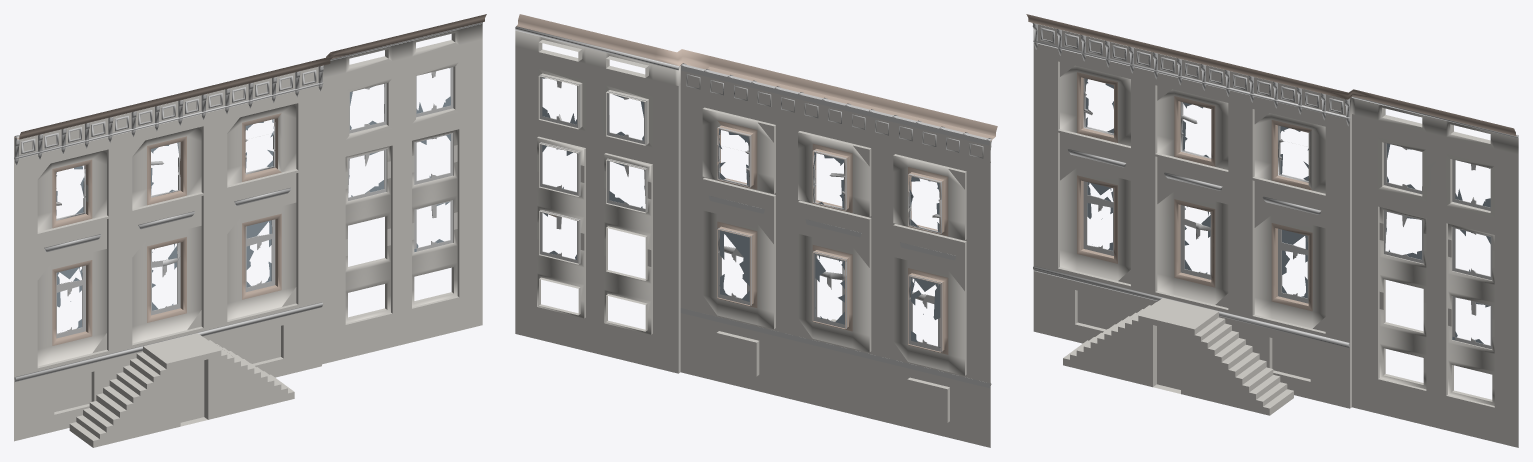
Rendered from buildinghipoly.dae.
The picture shows the model from 3 angles, left to right: view 1: azimuth 30°, elevation 25°; view 2: azimuth 150°, elevation 25°; view 3: azimuth 330°, elevation 25°; orthographic projection. The views are drawn at different scales.
Parts seen in each view (by area): view 1: building; view 2: building; view 3: building.
Part boxes in pixels (x1,y1,x2,y2): building: (14,14,486,447); building: (515,14,997,447); building: (1026,14,1518,447).
Size of the model in its own units: 1034 by 118 by 663.
